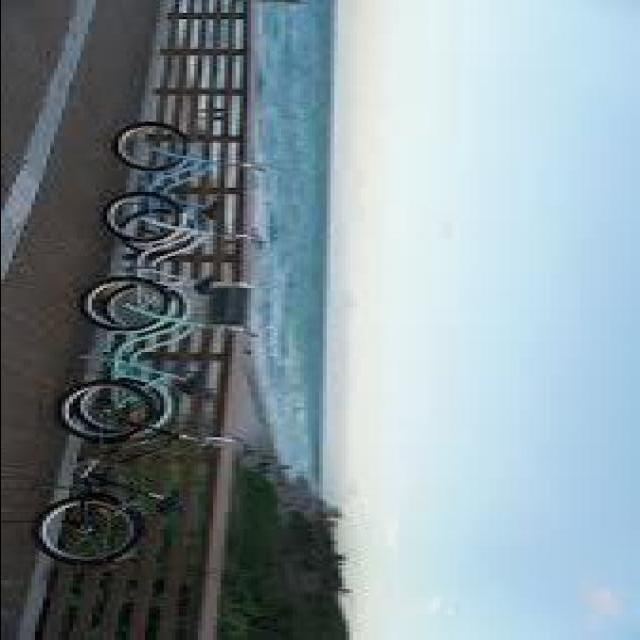bicycle: (35, 381, 228, 567), (62, 280, 262, 446), (106, 120, 262, 240), (103, 193, 255, 299)
